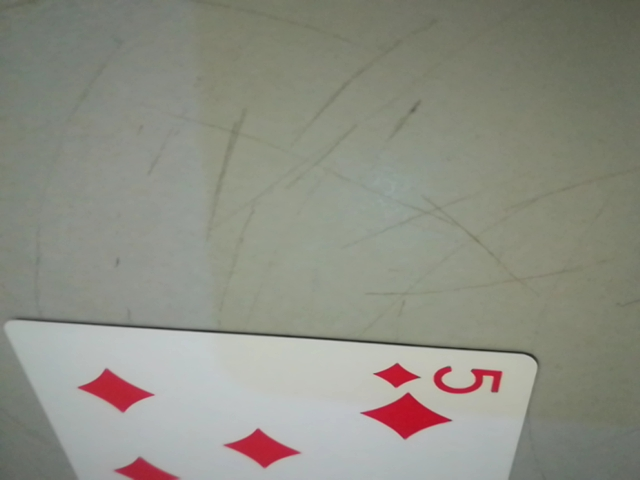fk 5: (374, 357, 519, 404)
